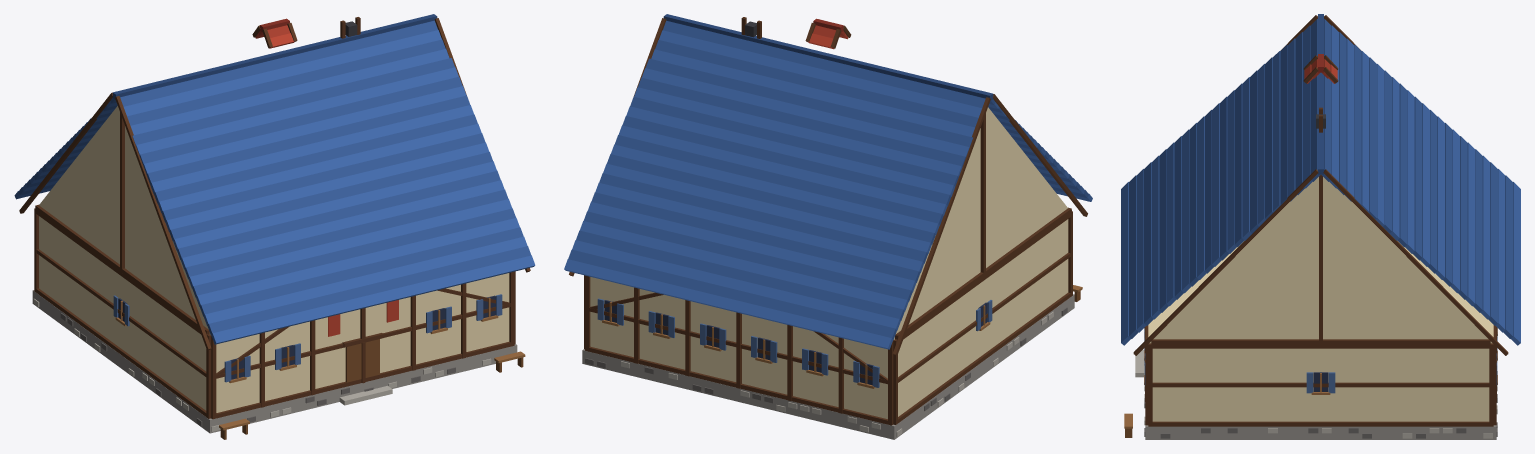
File: meeting_hall_lv4.glb
3 views of the same model, side by side, from view 1: azimuth 30°, elevation 25°; view 2: azimuth 150°, elevation 25°; view 3: azimuth 270°, elevation 25° (orthographic). The views are drawn at different scales.
Parts seen in each view (by area): view 1: roof_blue, roof_blue_mid, plaster, timber, footing, ridge, shutter_blue, plank_dark, stone_light, plank, window, roof_red (+1 smaller); view 2: roof_blue, roof_blue_mid, plaster, timber, footing, ridge, shutter_blue, window, stone_light, plank, stone_dark; view 3: plaster, roof_blue, roof_blue_mid, timber, footing, ridge, stone_light, stone_dark, shutter_blue.
Boxes of the visible parts, x1,y1,x2,y2 form: roof_blue: (14,30,535,344); roof_blue_mid: (18,20,531,334); plaster: (39,106,509,412); timber: (19,17,530,419); footing: (32,290,517,433); ridge: (112,14,437,99); shutter_blue: (113,294,502,382); plank_dark: (220,339,523,439); stone_light: (33,298,491,431); plank: (115,297,525,430); window: (118,295,495,379); roof_red: (255,33,398,336); roof_blue: (564,30,1092,349); roof_blue_mid: (568,20,1088,339); plaster: (590,107,1068,418); timber: (569,17,1087,425); footing: (582,294,1074,439); ridge: (663,14,993,100); shutter_blue: (597,298,992,387); window: (604,300,987,385); stone_light: (621,311,1053,436); plank: (602,285,1082,388); stone_dark: (585,307,1067,411); plaster: (1148,177,1493,421); roof_blue: (1121,25,1520,345); roof_blue_mid: (1129,19,1512,338); timber: (1133,15,1508,426); footing: (1145,425,1496,439); ridge: (1318,14,1323,174); stone_light: (1135,348,1497,438); stone_dark: (1144,337,1497,438); shutter_blue: (1144,327,1497,393).
Size of the model in its own units: 6.03 by 5.51 by 6.54.
